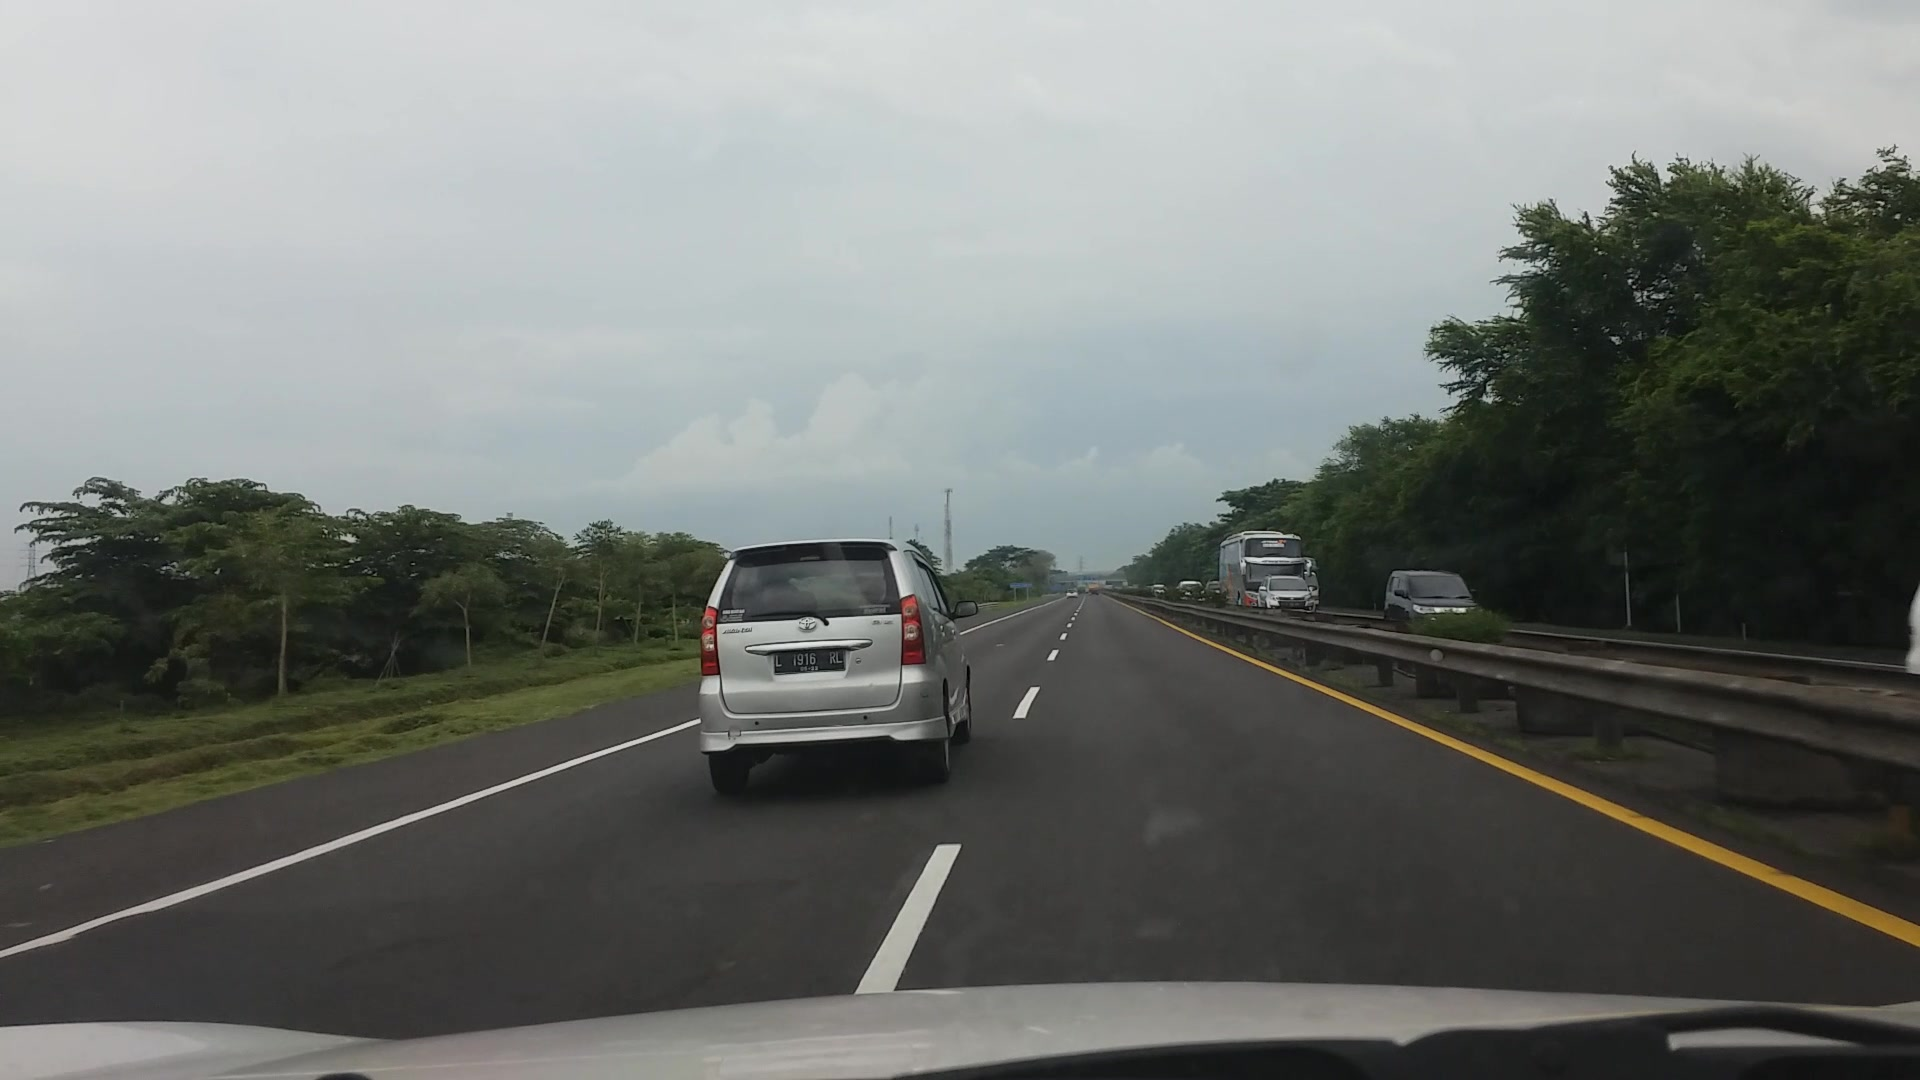plate_positive: (774, 650, 844, 674)
